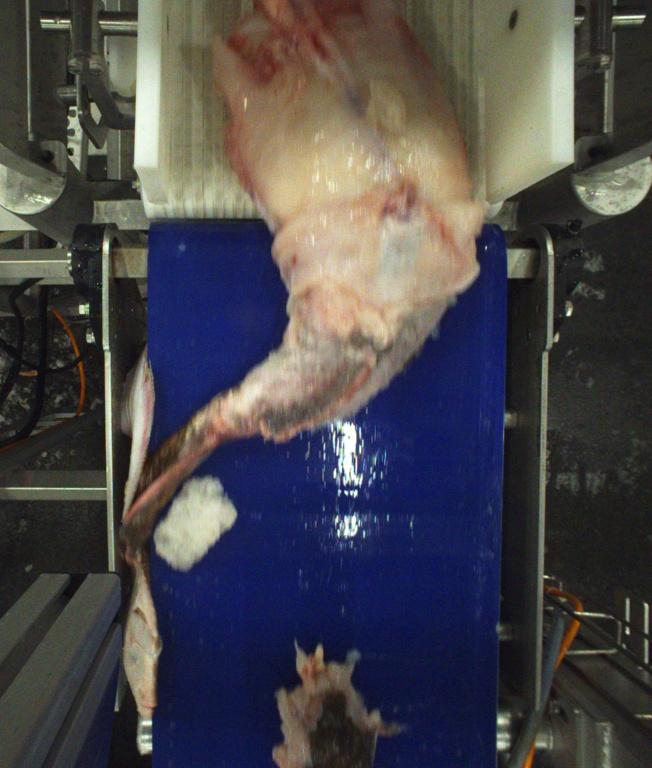ANF: (124, 0, 488, 562)
